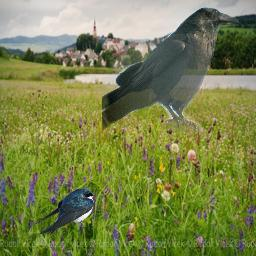Crow: (102, 6, 239, 132)
Swallow: (30, 188, 95, 235)
